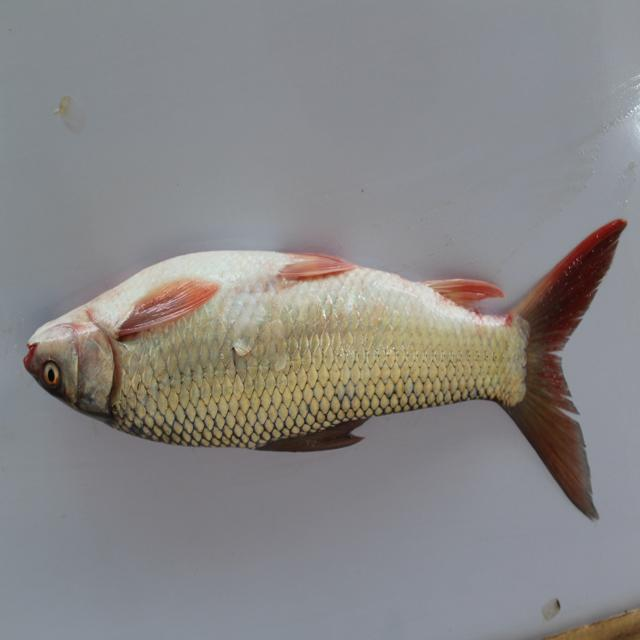Mori: (18, 207, 621, 538)
